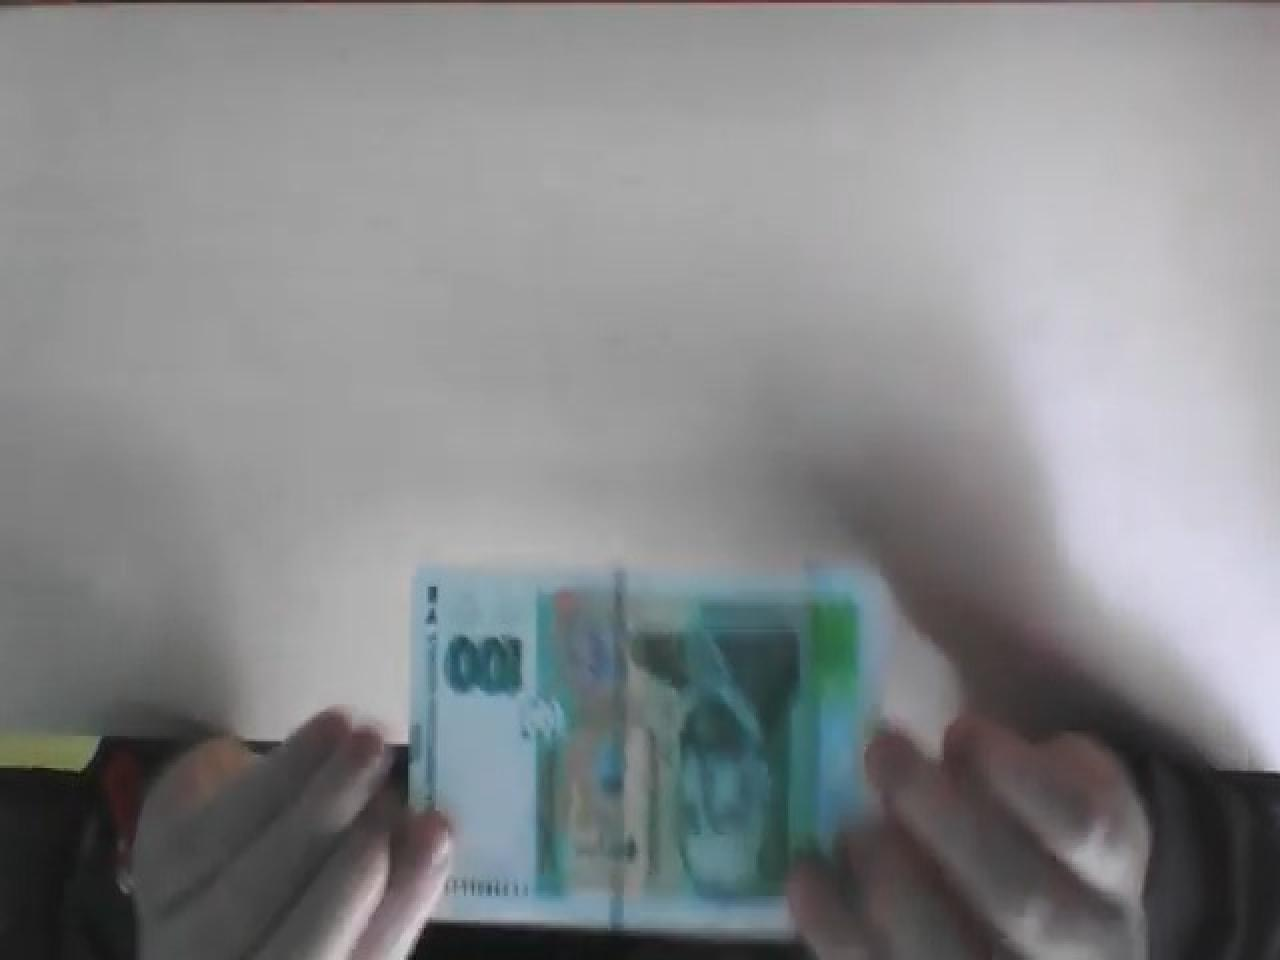100leva: (410, 565, 890, 941)
